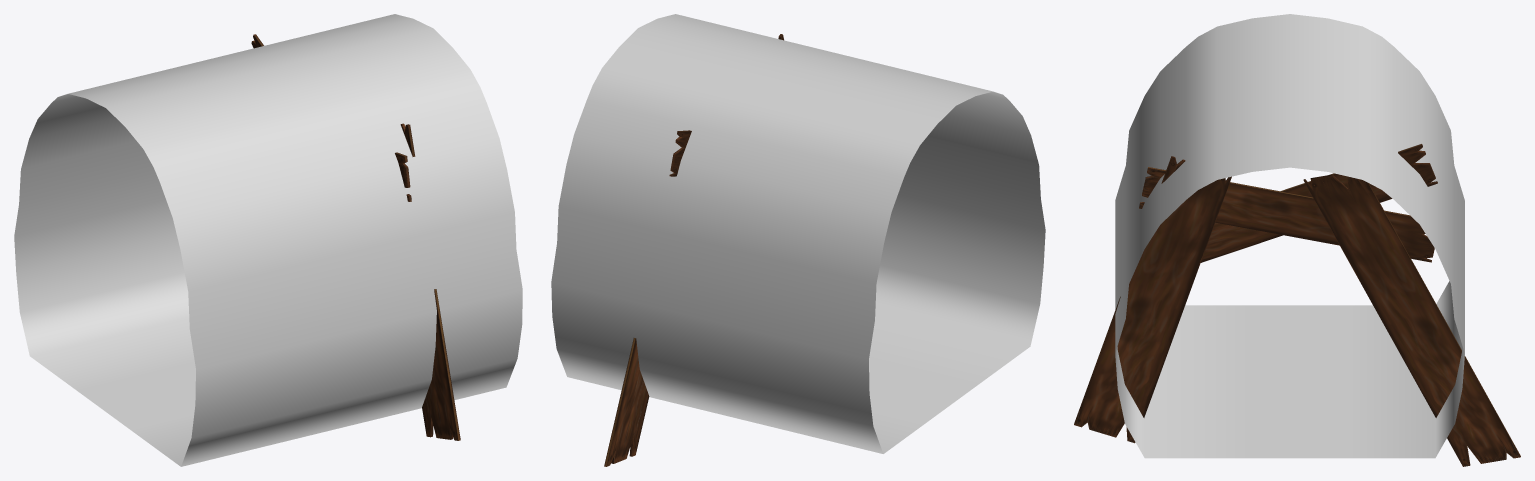
The model's file is Tercera parte.fbx.
The picture shows the model from 3 angles, left to right: view 1: azimuth 30°, elevation 25°; view 2: azimuth 150°, elevation 25°; view 3: azimuth 270°, elevation 25°; orthographic projection. The views are drawn at different scales.
Parts seen in each view (by area): view 1: Plane, Plane.011; view 2: Plane, Plane.011; view 3: Plane, Plane.011, Plane.013, Plane.012.
Part boxes in pixels (x1,y1,x2,y2): Plane: (14, 14, 522, 466); Plane.011: (400, 123, 460, 440); Plane: (551, 14, 1045, 453); Plane.011: (604, 34, 783, 466); Plane: (1115, 14, 1464, 458); Plane.011: (1074, 156, 1520, 466); Plane.013: (1139, 167, 1434, 262); Plane.012: (1200, 144, 1437, 262).
Bounding box in the file's own units: 1604 × 1643 × 1962.
